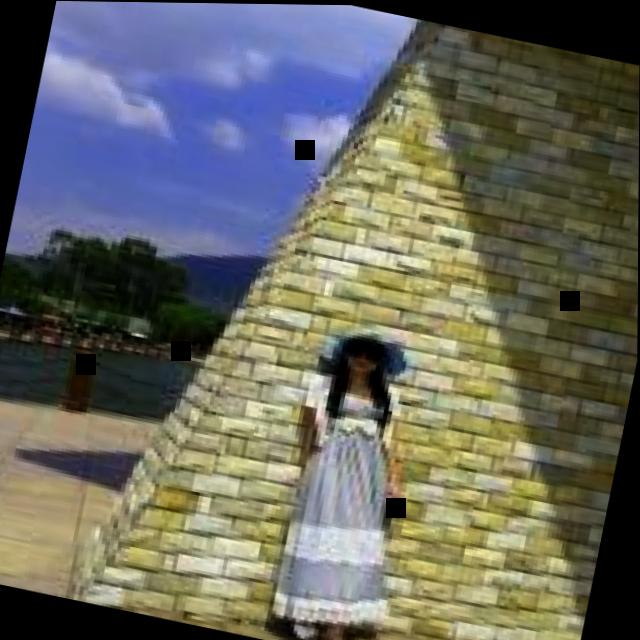Fall-Detected: (239, 298, 463, 640)
